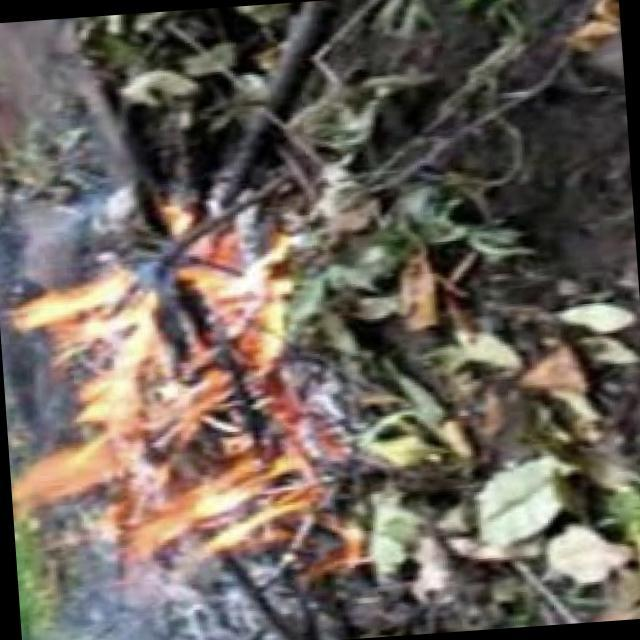Fire: (28, 212, 318, 586)
